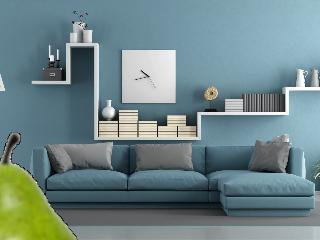pear: (0, 133, 79, 239)
